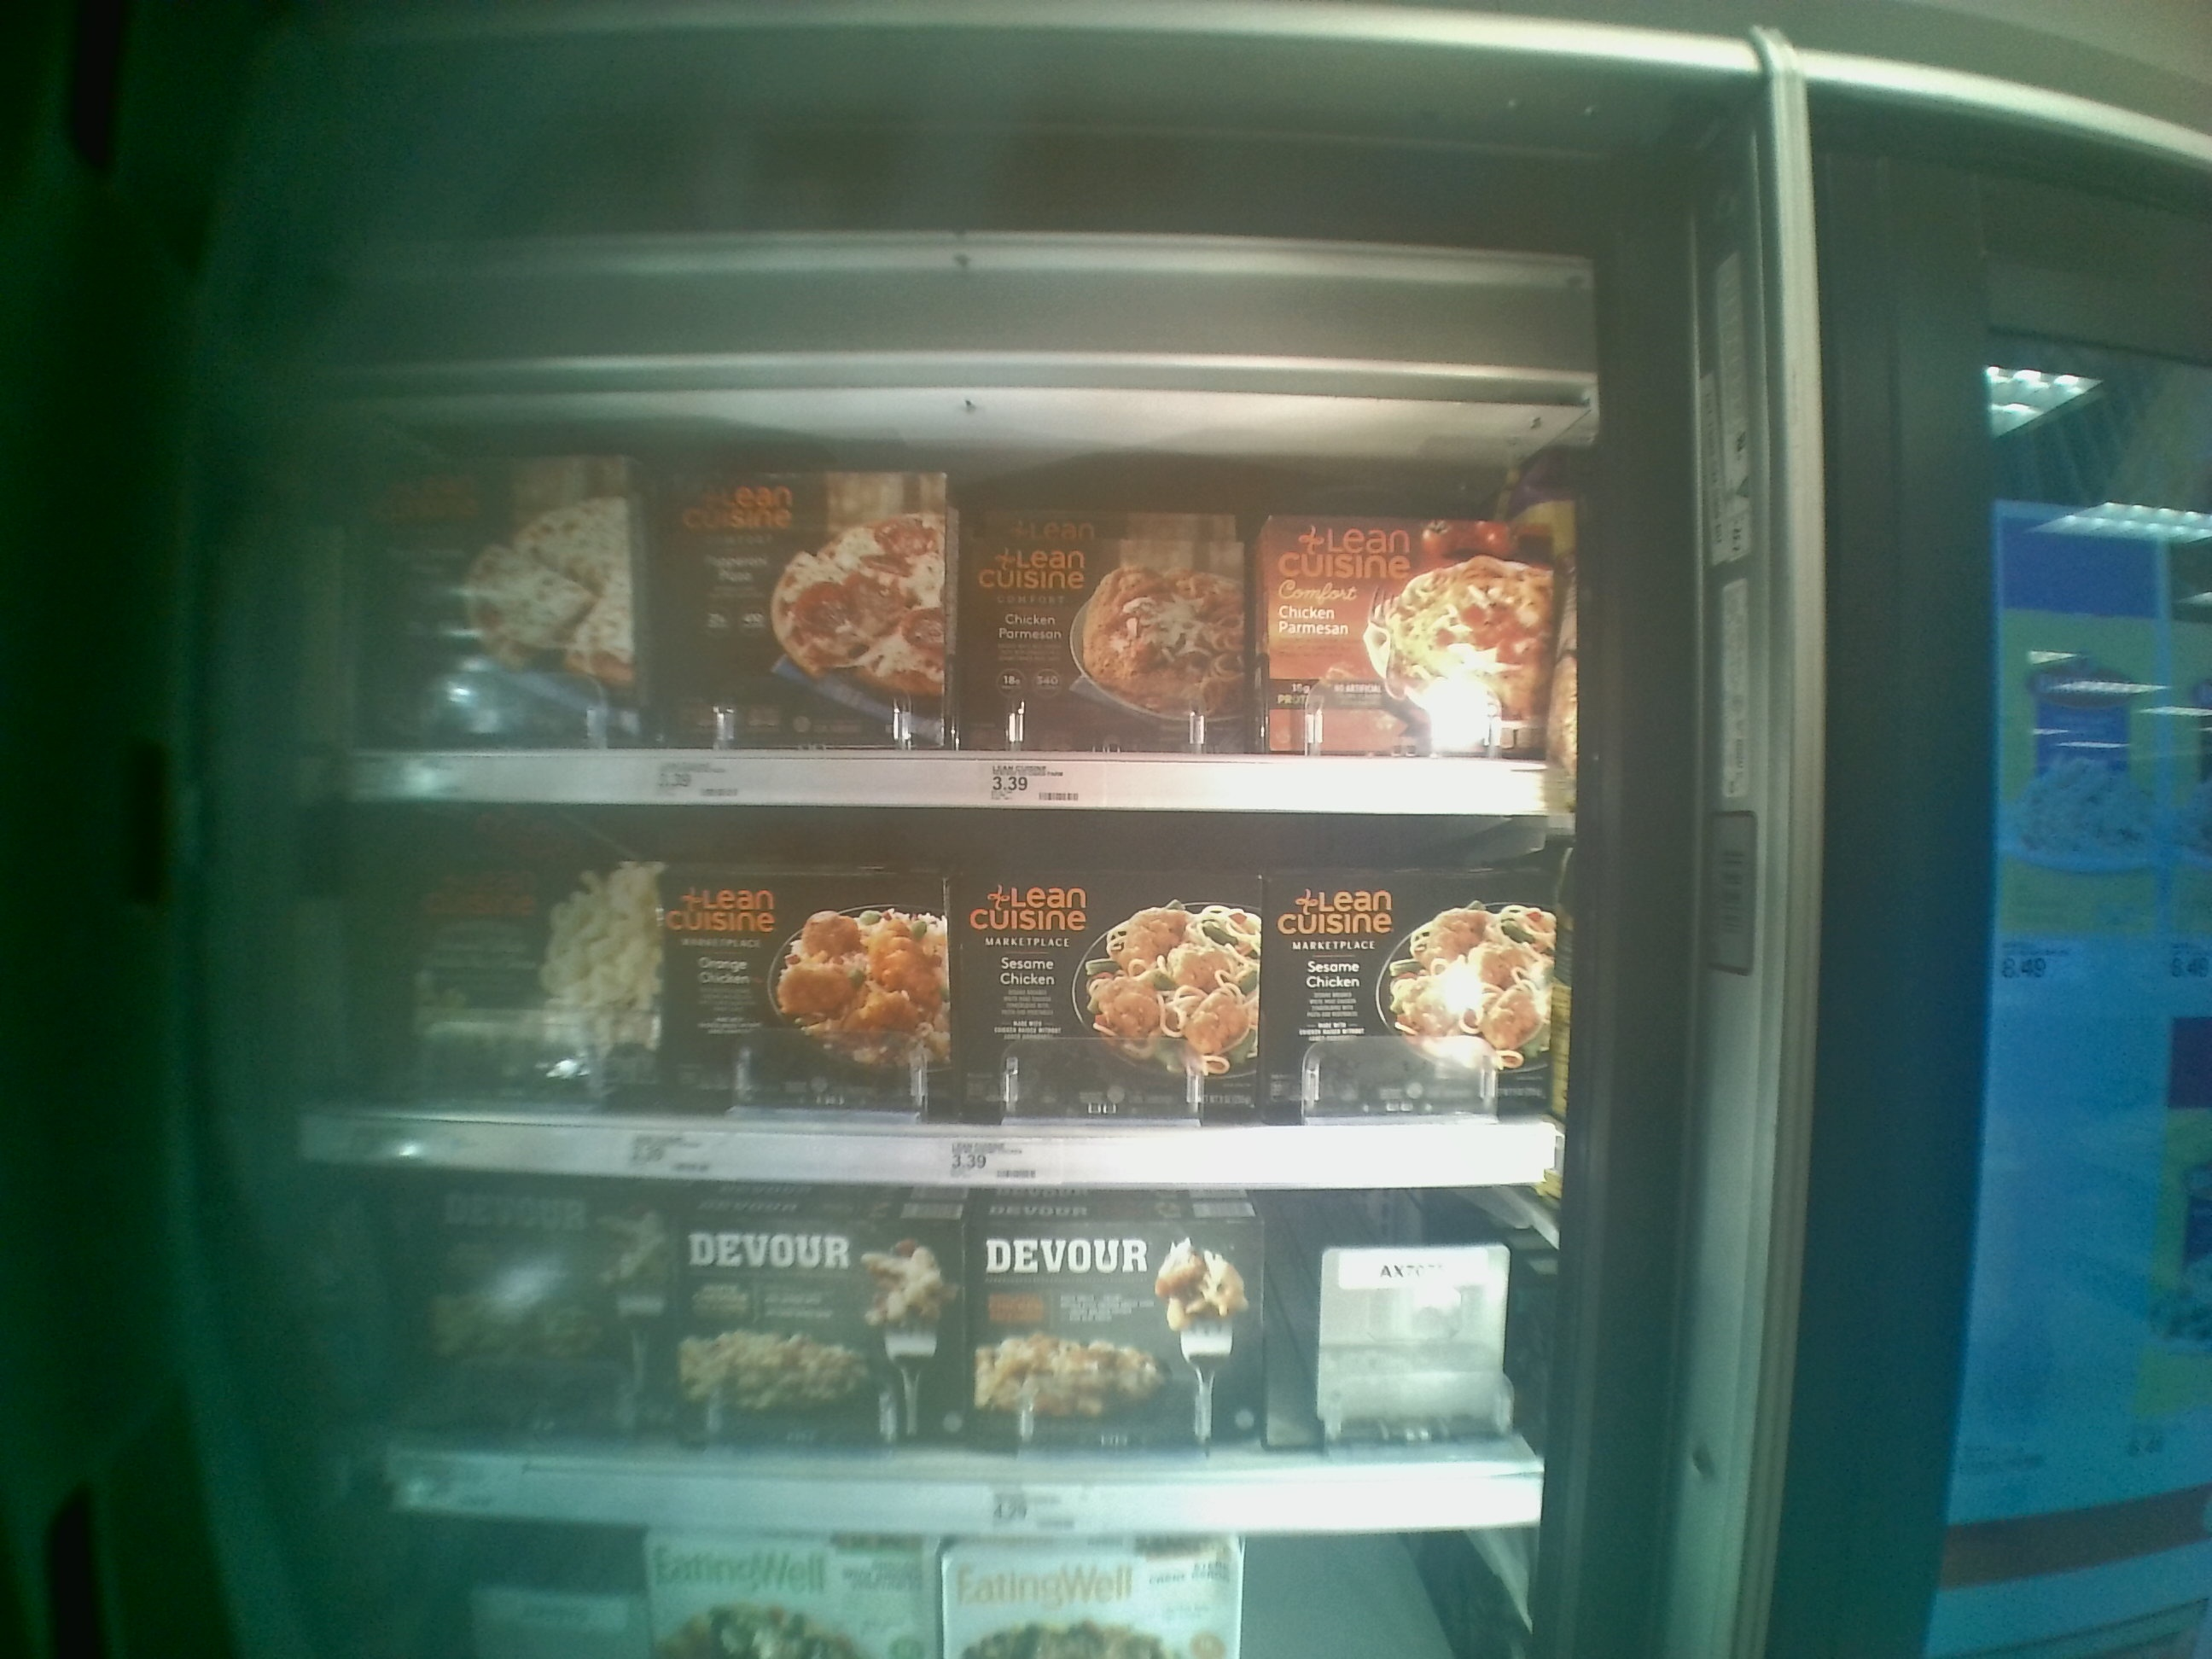shelf: (308, 390, 1564, 817), (308, 796, 1564, 1190), (307, 1168, 1561, 1532)
